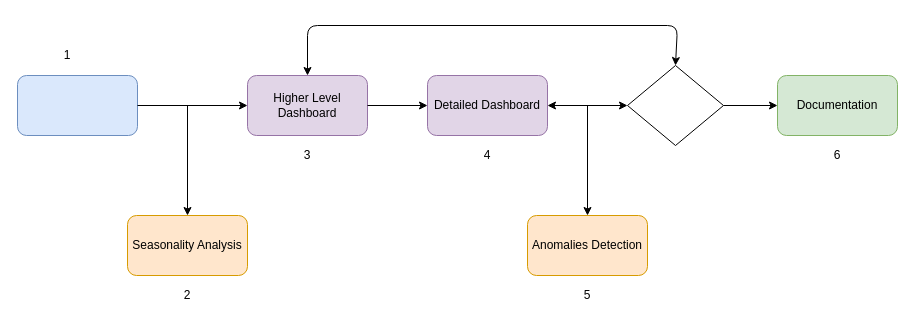
Image size: 915x323. Some labels were removed from this diagram. Each missing label, with the centre of its shape:
Project Initialisation: point 77,105
Testing: point 675,105
